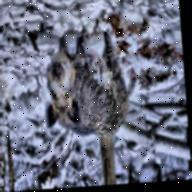boar: (28, 10, 157, 156)
